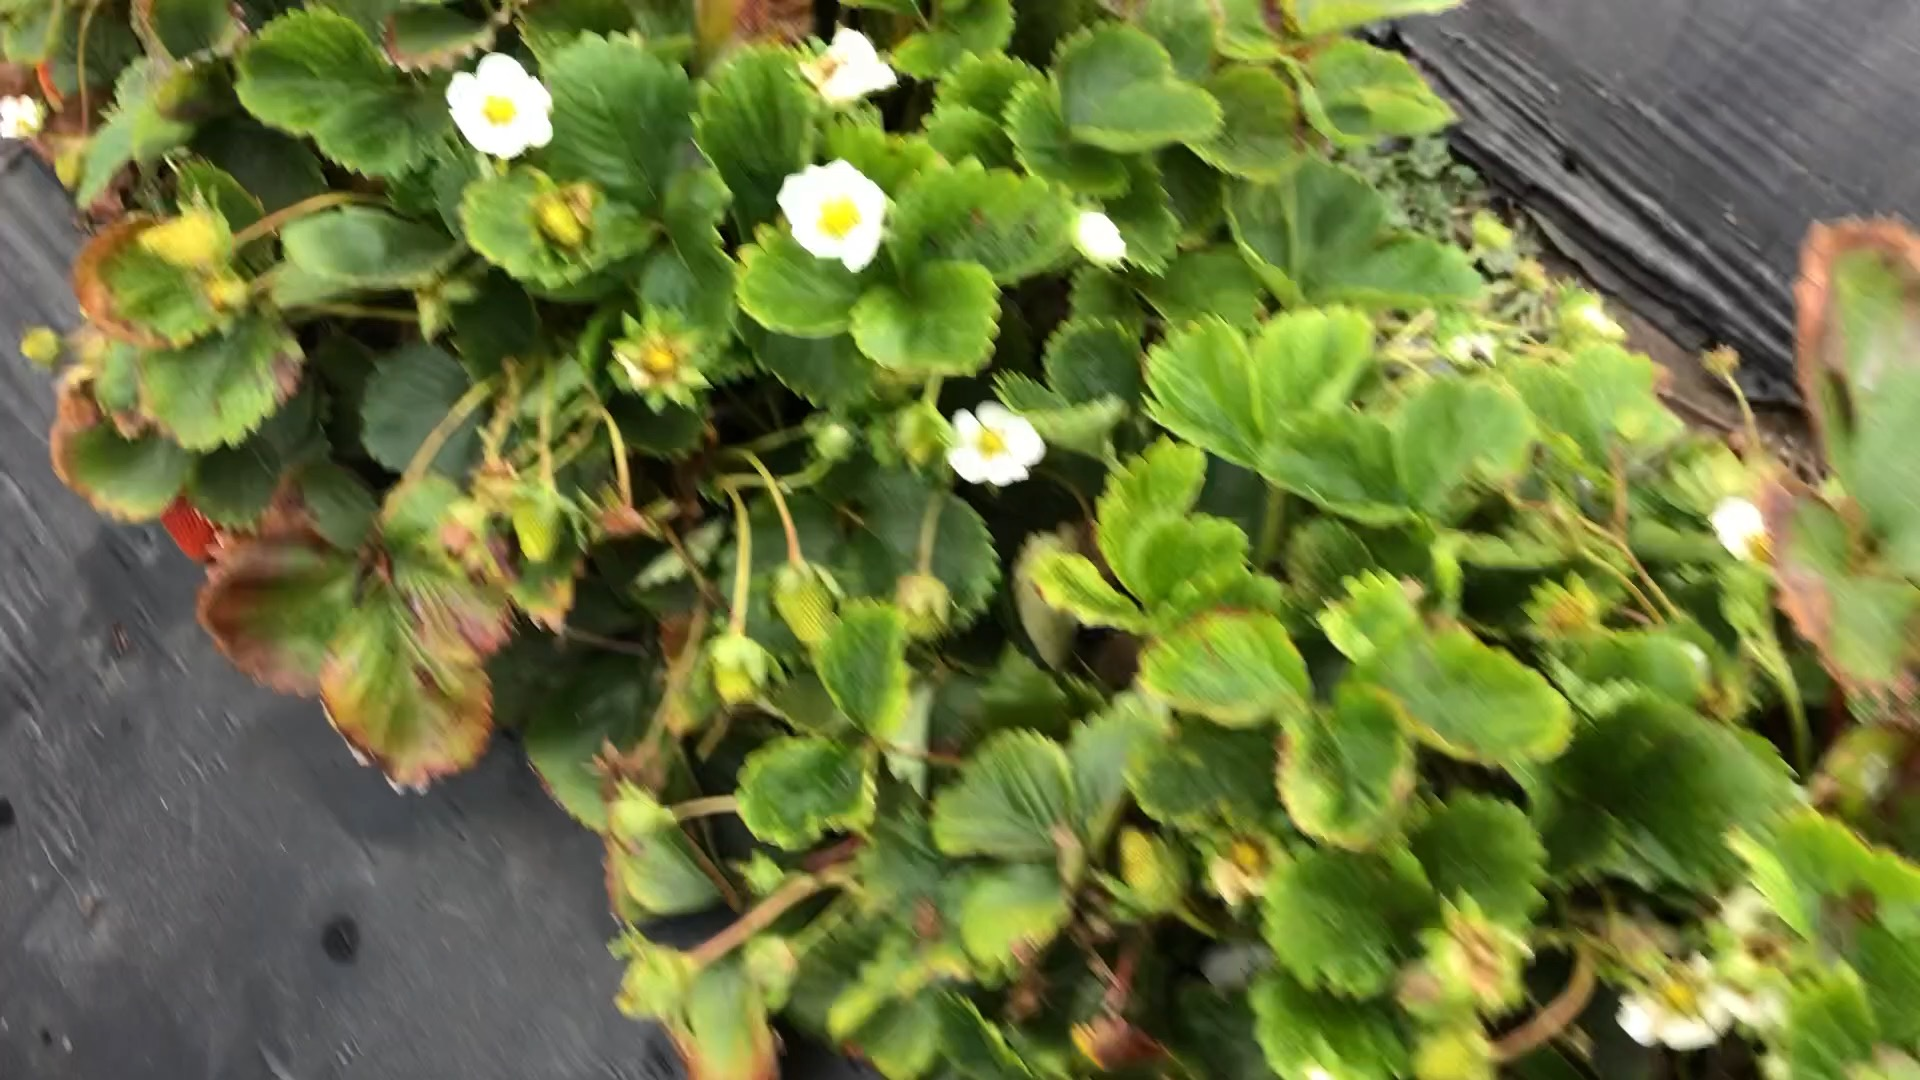ripe_strawberry: (156, 491, 223, 564)
unripe_strawberry: (131, 204, 241, 280), (769, 560, 843, 647), (1113, 824, 1179, 916), (506, 493, 571, 567), (531, 190, 589, 251), (709, 636, 757, 704)
